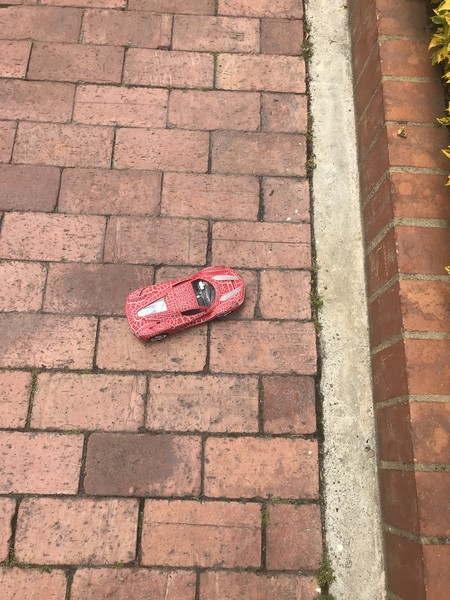RC: (124, 265, 246, 345)
